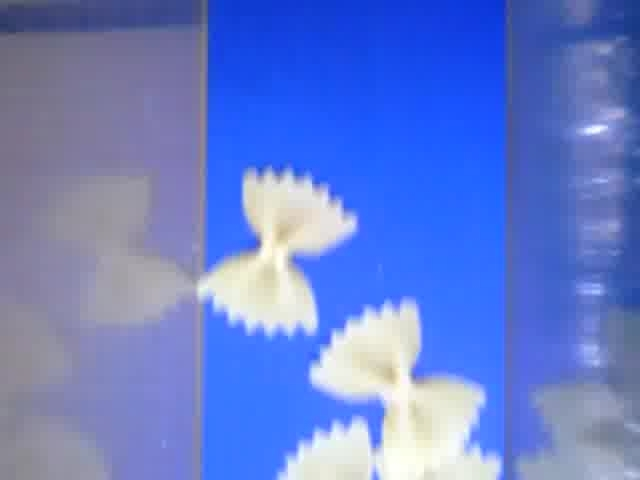farfalle: (309, 298, 487, 463), (198, 166, 360, 334), (275, 419, 371, 480), (370, 443, 503, 480)
